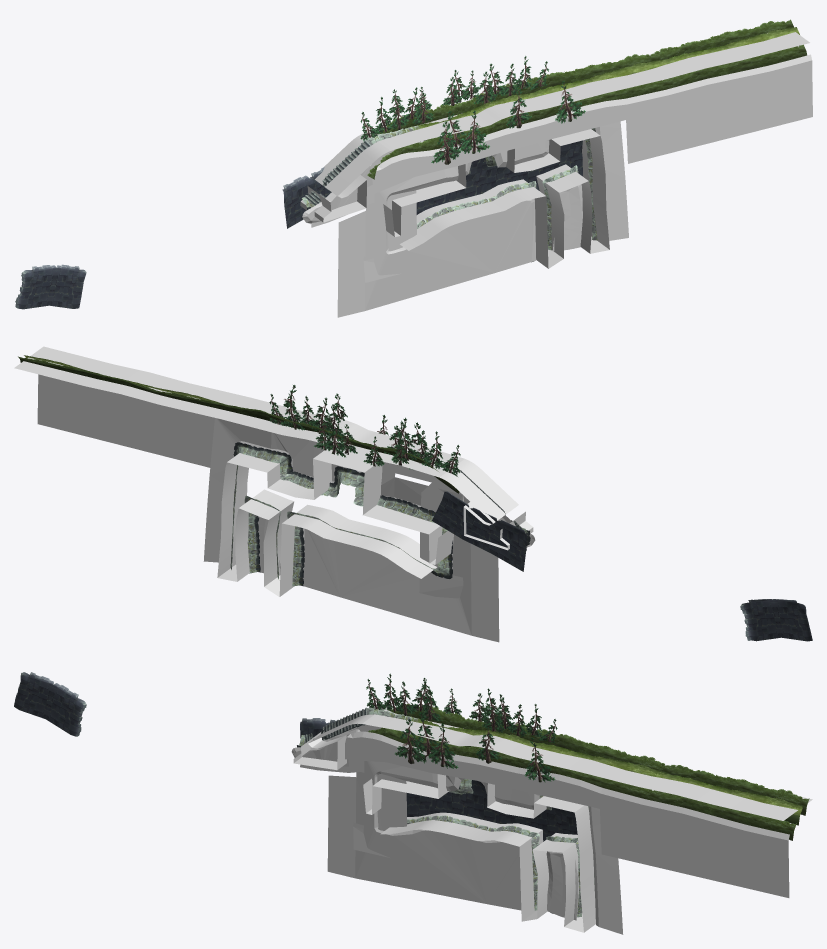
File: LVL10 Ruins Pt5.FBX
3 views of the same model, one above another, from view 1: azimuth 30°, elevation 25°; view 2: azimuth 150°, elevation 25°; view 3: azimuth 330°, elevation 25° (orthographic).
Parts seen in each view (by area): view 1: Lvl 10 Col Pt5, LVL 10 Black Middle Room 2_1, LVL 10 Black Pt 5, LVL10_Land Pt5 BG, LVL10_Land Pt5 FG, LVL 10 Ruins BG Pt 5_Room 2, LVL 10 Ruins BG Pt4_4, LVL10 Trees Pt5_FG, LVL10_Land Pt5, LVL 10 Black Middle Pt5, LVL10 Trees Pt5_1, LVL10 Trees Pt5_3 (+6 smaller); view 2: Lvl 10 Col Pt5, LVL 10 Black Middle Room 2_1, LVL 10 Black Pt 5, LVL10_Ruins Pt5_3, LVL 10 Ruins BG Pt 5_Room3, LVL 10 Ruins BG Pt4_4, LVL10_Land Pt5 BG, LVL 10 Black Middle Pt5, LVL10 Trees Pt5_1, LVL10 Trees Pt5_3, LVL10 Trees Pt5_2BG, LVL10_Ruins Pt5_4 (+1 smaller); view 3: LVL 10 Black Pt 5, LVL 10 Black Middle Room 2_1, Lvl 10 Col Pt5, LVL10_Land Pt5 BG, LVL10_Land Pt5 FG, LVL 10 Ruins BG Pt 5_Room 2, LVL 10 Ruins BG Pt4_4, LVL10 Trees Pt5_FG, LVL10_Land Pt5, LVL 10 Black Middle Pt5, LVL10 Trees Pt5_1, LVL10 Trees Pt5_3 (+5 smaller).
Boxes of the visible parts, x1,y1,x2,y2 form: Lvl 10 Col Pt5: [300, 21, 809, 268]; LVL 10 Black Middle Room 2_1: [337, 121, 628, 317]; LVL 10 Black Pt 5: [374, 54, 812, 193]; LVL10_Land Pt5 BG: [375, 19, 793, 134]; LVL10_Land Pt5 FG: [367, 44, 806, 179]; LVL 10 Ruins BG Pt 5_Room 2: [416, 140, 582, 214]; LVL 10 Ruins BG Pt4_4: [15, 264, 86, 309]; LVL10 Trees Pt5_FG: [431, 81, 585, 164]; LVL10_Land Pt5: [443, 27, 799, 121]; LVL 10 Black Middle Pt5: [311, 150, 416, 282]; LVL10 Trees Pt5_1: [360, 87, 434, 142]; LVL10 Trees Pt5_3: [473, 56, 548, 103]; Lvl 10 Col Pt5: [14, 346, 533, 596]; LVL 10 Black Middle Room 2_1: [203, 418, 499, 642]; LVL 10 Black Pt 5: [37, 374, 436, 482]; LVL10_Ruins Pt5_3: [230, 442, 452, 586]; LVL 10 Ruins BG Pt 5_Room3: [432, 491, 526, 571]; LVL 10 Ruins BG Pt4_4: [740, 599, 812, 641]; LVL10_Land Pt5 BG: [18, 356, 459, 493]; LVL 10 Black Middle Pt5: [419, 478, 526, 598]; LVL10 Trees Pt5_1: [384, 421, 460, 476]; LVL10 Trees Pt5_3: [269, 390, 344, 436]; LVL10 Trees Pt5_2BG: [314, 420, 408, 466]; LVL10_Ruins Pt5_4: [244, 495, 280, 579]; LVL 10 Black Pt 5: [345, 731, 789, 897]; LVL 10 Black Middle Room 2_1: [327, 761, 623, 934]; Lvl 10 Col Pt5: [293, 706, 812, 932]; LVL10_Land Pt5 BG: [386, 704, 809, 815]; LVL10_Land Pt5 FG: [368, 727, 796, 840]; LVL 10 Ruins BG Pt 5_Room 2: [406, 780, 577, 841]; LVL 10 Ruins BG Pt4_4: [14, 672, 86, 736]; LVL10 Trees Pt5_FG: [395, 712, 555, 782]; LVL10_Land Pt5: [443, 726, 802, 825]; LVL 10 Black Middle Pt5: [300, 725, 406, 857]; LVL10 Trees Pt5_1: [366, 673, 442, 721]; LVL10 Trees Pt5_3: [482, 694, 557, 743].
Size of the model in its own units: 17006 by 1373 by 4369.
